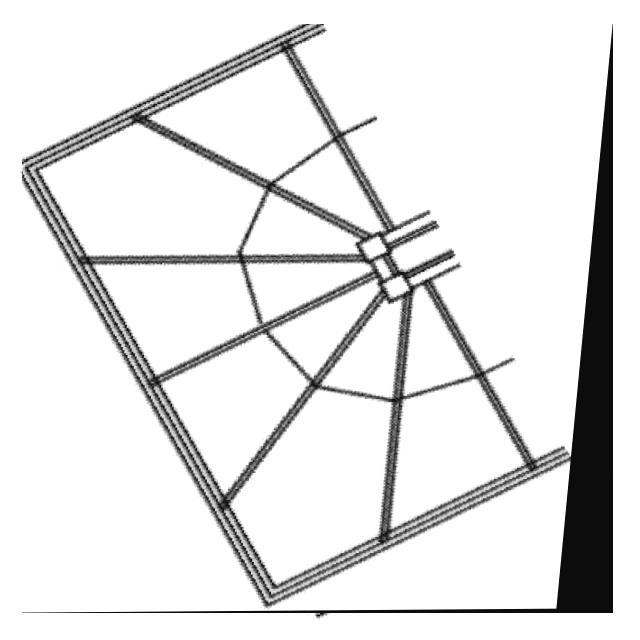stair: (22, 24, 613, 613)
